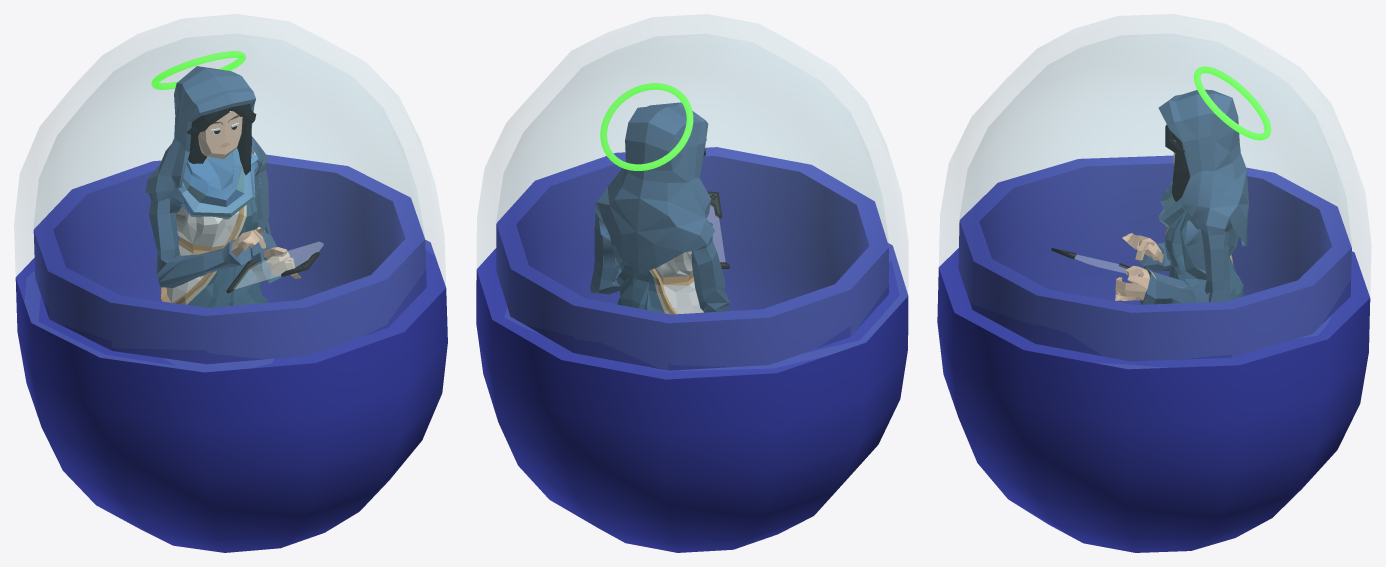
File: ipadMaryToy.glb
3 renders of one model, left to right at view 1: azimuth 30°, elevation 25°; view 2: azimuth 150°, elevation 25°; view 3: azimuth 270°, elevation 25°, orthographic.
Parts seen in each view (by area): view 1: CapsuleBaseA, CapsuleGlassA, IpadMary, Screen, Halo, Tablet; view 2: CapsuleBaseA, CapsuleGlassA, IpadMary, Halo; view 3: CapsuleBaseA, CapsuleGlassA, IpadMary, Halo.
Part boxes in pixels (x1,y1,x2,y2): CapsuleBaseA: (15,154,447,552); CapsuleGlassA: (14,14,445,371); IpadMary: (145,66,300,307); Screen: (234,242,323,289); Halo: (151,51,245,89); Tablet: (226,252,319,293); CapsuleBaseA: (476,147,908,552); CapsuleGlassA: (477,14,907,371); IpadMary: (590,102,730,314); Halo: (600,83,693,170); CapsuleBaseA: (937,155,1370,552); CapsuleGlassA: (939,14,1370,368); IpadMary: (1115,89,1248,304); Halo: (1193,66,1271,140).
Bounding box in the file's own units: 0.3022 × 0.3848 × 0.3024.
Materials: 7 (2 with a texture image).
